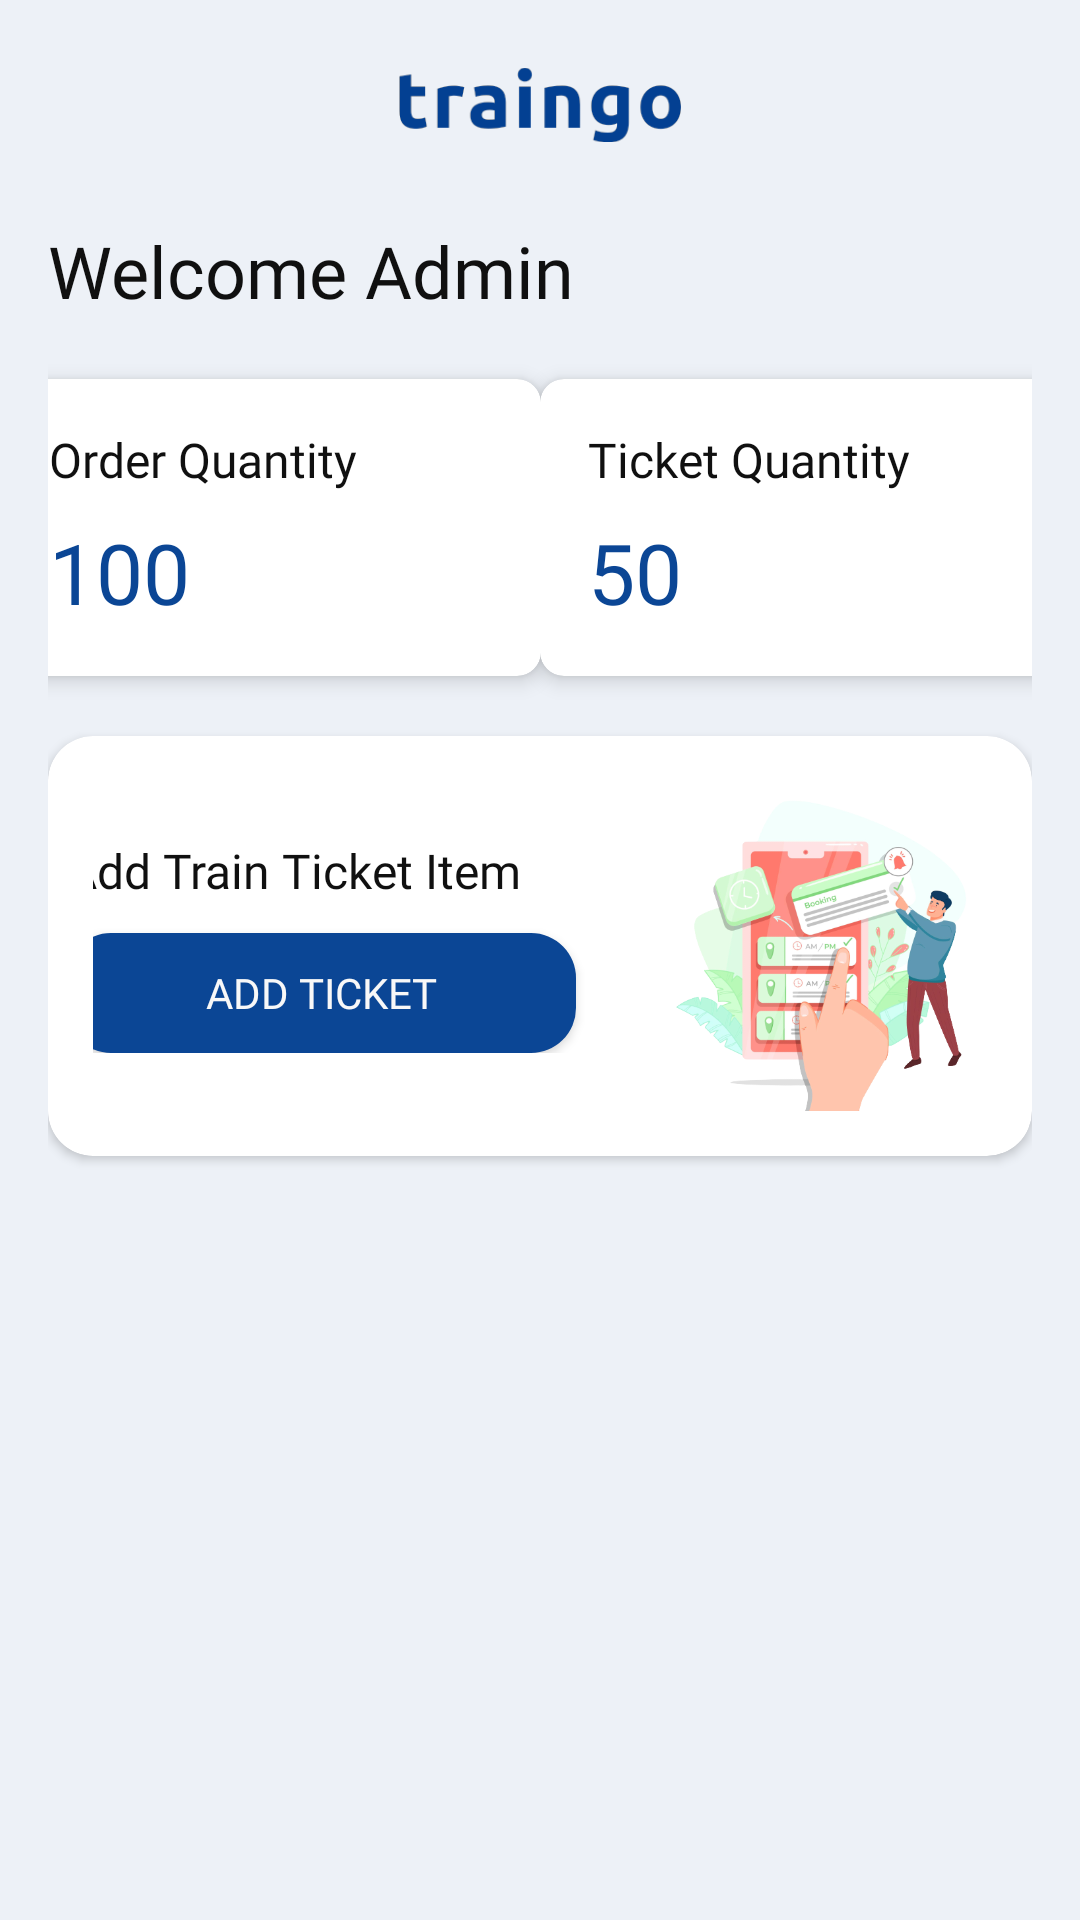

Icon click points for this 1080 x 1920 phone screenshot, format (x=x, y=y):
order ticket: (x=819, y=976)
